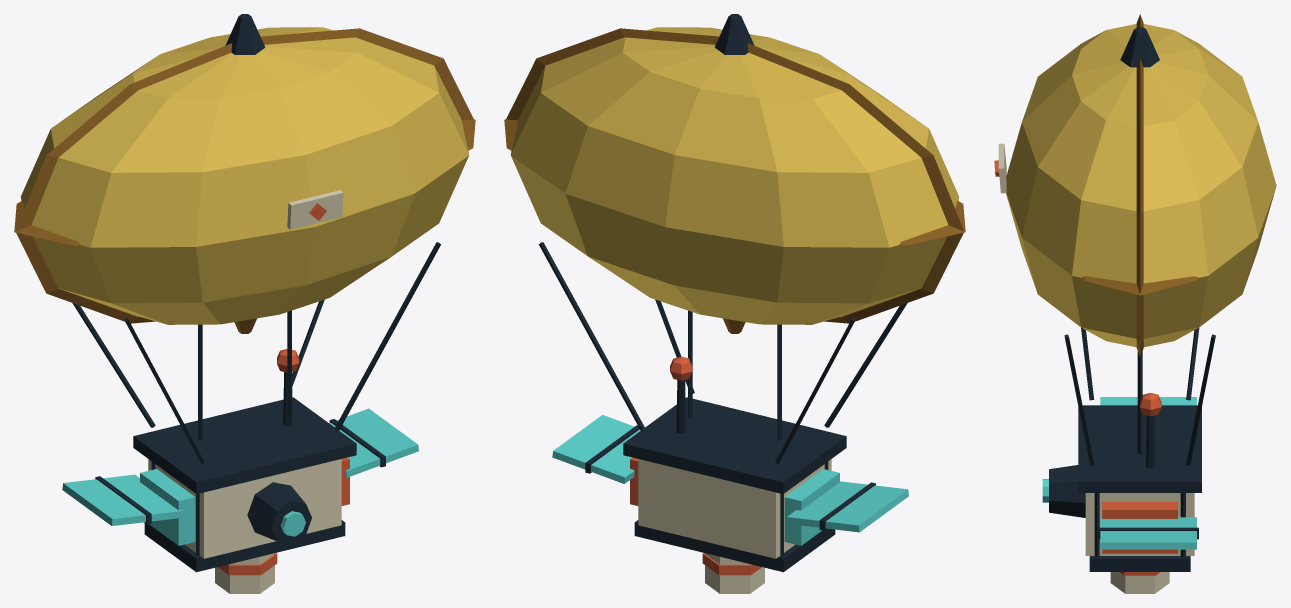
Rendered from venus-observation-balloon-v1-C5hVyfZi.glb.
3 views of the same model, side by side, from view 1: azimuth 30°, elevation 25°; view 2: azimuth 150°, elevation 25°; view 3: azimuth 270°, elevation 25° (orthographic). The views are drawn at different scales.
Parts seen in each view (by area): view 1: VOB1_SulfurCloudEnvelope, VOB1_Gondola_TopDeck, VOB1_Envelope_LongitudinalHoop, VOB1_Gondola_MainCabinet, VOB1_SolarWing_Left, VOB1_SolarWing_Right, VOB1_Gondola_LowerCradle, VOB1_CameraPod, VOB1_InstrumentBay_Left, VOB1_PublicResearchMarker, VOB1_CargoCanister, VOB1_SuspensionCable_04 (+5 smaller); view 2: VOB1_SulfurCloudEnvelope, VOB1_Gondola_TopDeck, VOB1_Gondola_MainCabinet, VOB1_Envelope_LongitudinalHoop, VOB1_SolarWing_Left, VOB1_SolarWing_Right, VOB1_Gondola_LowerCradle, VOB1_InstrumentBay_Left, VOB1_CargoCanister, VOB1_SuspensionCable_02, VOB1_Envelope_UpperCap, VOB1_Envelope_EquatorHoop (+3 smaller); view 3: VOB1_SulfurCloudEnvelope, VOB1_Gondola_TopDeck, VOB1_SolarWing_Right, VOB1_Envelope_LongitudinalHoop, VOB1_Gondola_MainCabinet, VOB1_InstrumentBay_Right, VOB1_CameraPod, VOB1_Gondola_LowerCradle, VOB1_Envelope_UpperCap, VOB1_CargoCanister, VOB1_Envelope_EquatorHoop, VOB1_SuspensionCable_02 (+10 smaller).
Part boxes in pixels (bbox=[...]): VOB1_SulfurCloudEnvelope: bbox=[20, 27, 469, 324]; VOB1_Gondola_TopDeck: bbox=[133, 397, 356, 493]; VOB1_Envelope_LongitudinalHoop: bbox=[16, 28, 473, 323]; VOB1_Gondola_MainCabinet: bbox=[148, 459, 341, 558]; VOB1_SolarWing_Left: bbox=[62, 474, 184, 525]; VOB1_SolarWing_Right: bbox=[329, 408, 418, 477]; VOB1_Gondola_LowerCradle: bbox=[144, 520, 345, 572]; VOB1_CameraPod: bbox=[247, 482, 311, 543]; VOB1_InstrumentBay_Left: bbox=[140, 469, 195, 545]; VOB1_PublicResearchMarker: bbox=[287, 190, 343, 229]; VOB1_CargoCanister: bbox=[215, 553, 274, 593]; VOB1_SuspensionCable_04: bbox=[334, 242, 440, 430]; VOB1_SulfurCloudEnvelope: bbox=[510, 27, 959, 324]; VOB1_Gondola_TopDeck: bbox=[623, 397, 846, 493]; VOB1_Gondola_MainCabinet: bbox=[638, 459, 831, 558]; VOB1_Envelope_LongitudinalHoop: bbox=[506, 28, 963, 323]; VOB1_SolarWing_Left: bbox=[787, 481, 908, 532]; VOB1_SolarWing_Right: bbox=[552, 415, 640, 483]; VOB1_Gondola_LowerCradle: bbox=[634, 520, 835, 572]; VOB1_InstrumentBay_Left: bbox=[784, 469, 839, 545]; VOB1_CargoCanister: bbox=[705, 553, 764, 593]; VOB1_SuspensionCable_02: bbox=[539, 242, 645, 430]; VOB1_Envelope_UpperCap: bbox=[714, 14, 754, 54]; VOB1_Envelope_EquatorHoop: bbox=[504, 119, 965, 245]; VOB1_SulfurCloudEnvelope: bbox=[1006, 24, 1276, 347]; VOB1_Gondola_TopDeck: bbox=[1078, 405, 1201, 492]; VOB1_SolarWing_Right: bbox=[1100, 517, 1196, 549]; VOB1_Envelope_LongitudinalHoop: bbox=[1136, 14, 1143, 356]; VOB1_Gondola_MainCabinet: bbox=[1085, 493, 1194, 555]; VOB1_InstrumentBay_Right: bbox=[1102, 502, 1177, 553]; VOB1_CameraPod: bbox=[1049, 465, 1085, 517]; VOB1_Gondola_LowerCradle: bbox=[1089, 556, 1190, 571]; VOB1_Envelope_UpperCap: bbox=[1120, 27, 1159, 67]; VOB1_CargoCanister: bbox=[1110, 572, 1169, 593]; VOB1_Envelope_EquatorHoop: bbox=[1081, 276, 1198, 295]; VOB1_SuspensionCable_02: bbox=[1186, 334, 1215, 465].
Size of the model in its own units: 4.96 by 5.82 by 2.69.
